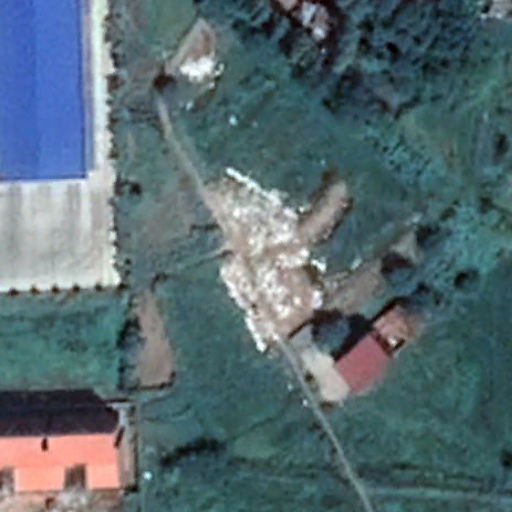msw: (215, 173, 325, 351)
